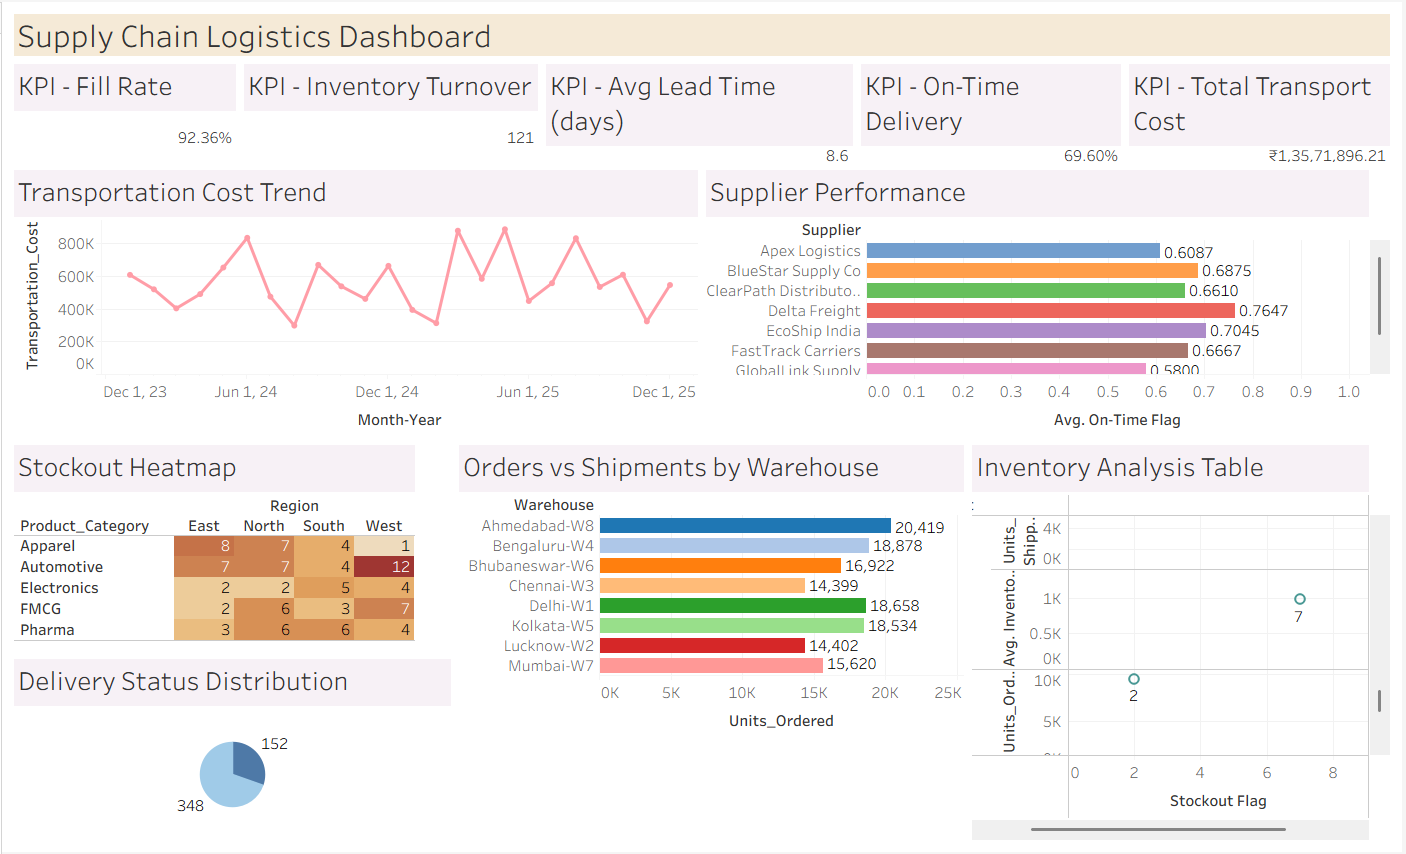

The dashboard page shown, as its layout file describes it:
{"tool":"tableau","page":{"name":"Supply Chain Logistics Dashboard","canvas":[1400,850],"ordinal":0},"visuals":[{"type":"title","box":[8,8,1384,50]},{"type":"worksheet","title":"KPI - Fill Rate","mark":"Automatic","box":[8,58,230,106.2]},{"type":"worksheet","title":"KPI - Inventory Turnover","mark":"Automatic","box":[238,58,302,106.2]},{"type":"worksheet","title":"KPI - Avg Lead Time (days)","mark":"Automatic","box":[540,58,315,106.2]},{"type":"worksheet","title":"KPI - On-Time Delivery","mark":"Automatic","box":[855,58,268.5,106.2]},{"type":"worksheet","title":"KPI - Total Transport Cost","mark":"Automatic","box":[1123.5,58,268.5,106.2]},{"type":"worksheet","title":"Transportation Cost Trend","mark":"Line","rows":["Transportation_Cost"],"cols":["Month-Year"],"box":[8,164.2,692,274.8]},{"type":"worksheet","title":"Supplier Performance","mark":"Bar","rows":["Supplier"],"cols":["On-Time Flag"],"box":[700,164.2,692,274.8]},{"type":"worksheet","title":"Stockout Heatmap","mark":"Square","rows":["Product_Category"],"cols":["Region"],"box":[8,439,445,214]},{"type":"worksheet","title":"Orders vs Shipments by Warehouse","mark":"Bar","rows":["Warehouse"],"cols":["Units_Ordered"],"box":[453,439,513,403]},{"type":"worksheet","title":"Inventory Analysis Table","mark":"Automatic","rows":["Product","Units_Ordered","Units_Shipped","Inventory_On_Hand"],"cols":["Stockout Flag"],"box":[966,439,426,403]},{"type":"worksheet","title":"Delivery Status Distribution","mark":"Pie","box":[8,653,445,189]}]}

Visuals, with their boxes in screenshot pixels (x1, y1, x2, y2), scaled from the page's 1400x850 canvas onto the 1406x854 screenshot:
title: Rect(8, 8, 1398, 58)
"KPI - Fill Rate" worksheet: Rect(8, 58, 239, 165)
"KPI - Inventory Turnover" worksheet: Rect(239, 58, 542, 165)
"KPI - Avg Lead Time (days)" worksheet: Rect(542, 58, 859, 165)
"KPI - On-Time Delivery" worksheet: Rect(859, 58, 1128, 165)
"KPI - Total Transport Cost" worksheet: Rect(1128, 58, 1398, 165)
"Transportation Cost Trend" worksheet (Line marks): Rect(8, 165, 703, 441)
"Supplier Performance" worksheet (Bar marks): Rect(703, 165, 1398, 441)
"Stockout Heatmap" worksheet (Square marks): Rect(8, 441, 455, 656)
"Orders vs Shipments by Warehouse" worksheet (Bar marks): Rect(455, 441, 970, 846)
"Inventory Analysis Table" worksheet: Rect(970, 441, 1398, 846)
"Delivery Status Distribution" worksheet (Pie marks): Rect(8, 656, 455, 846)
